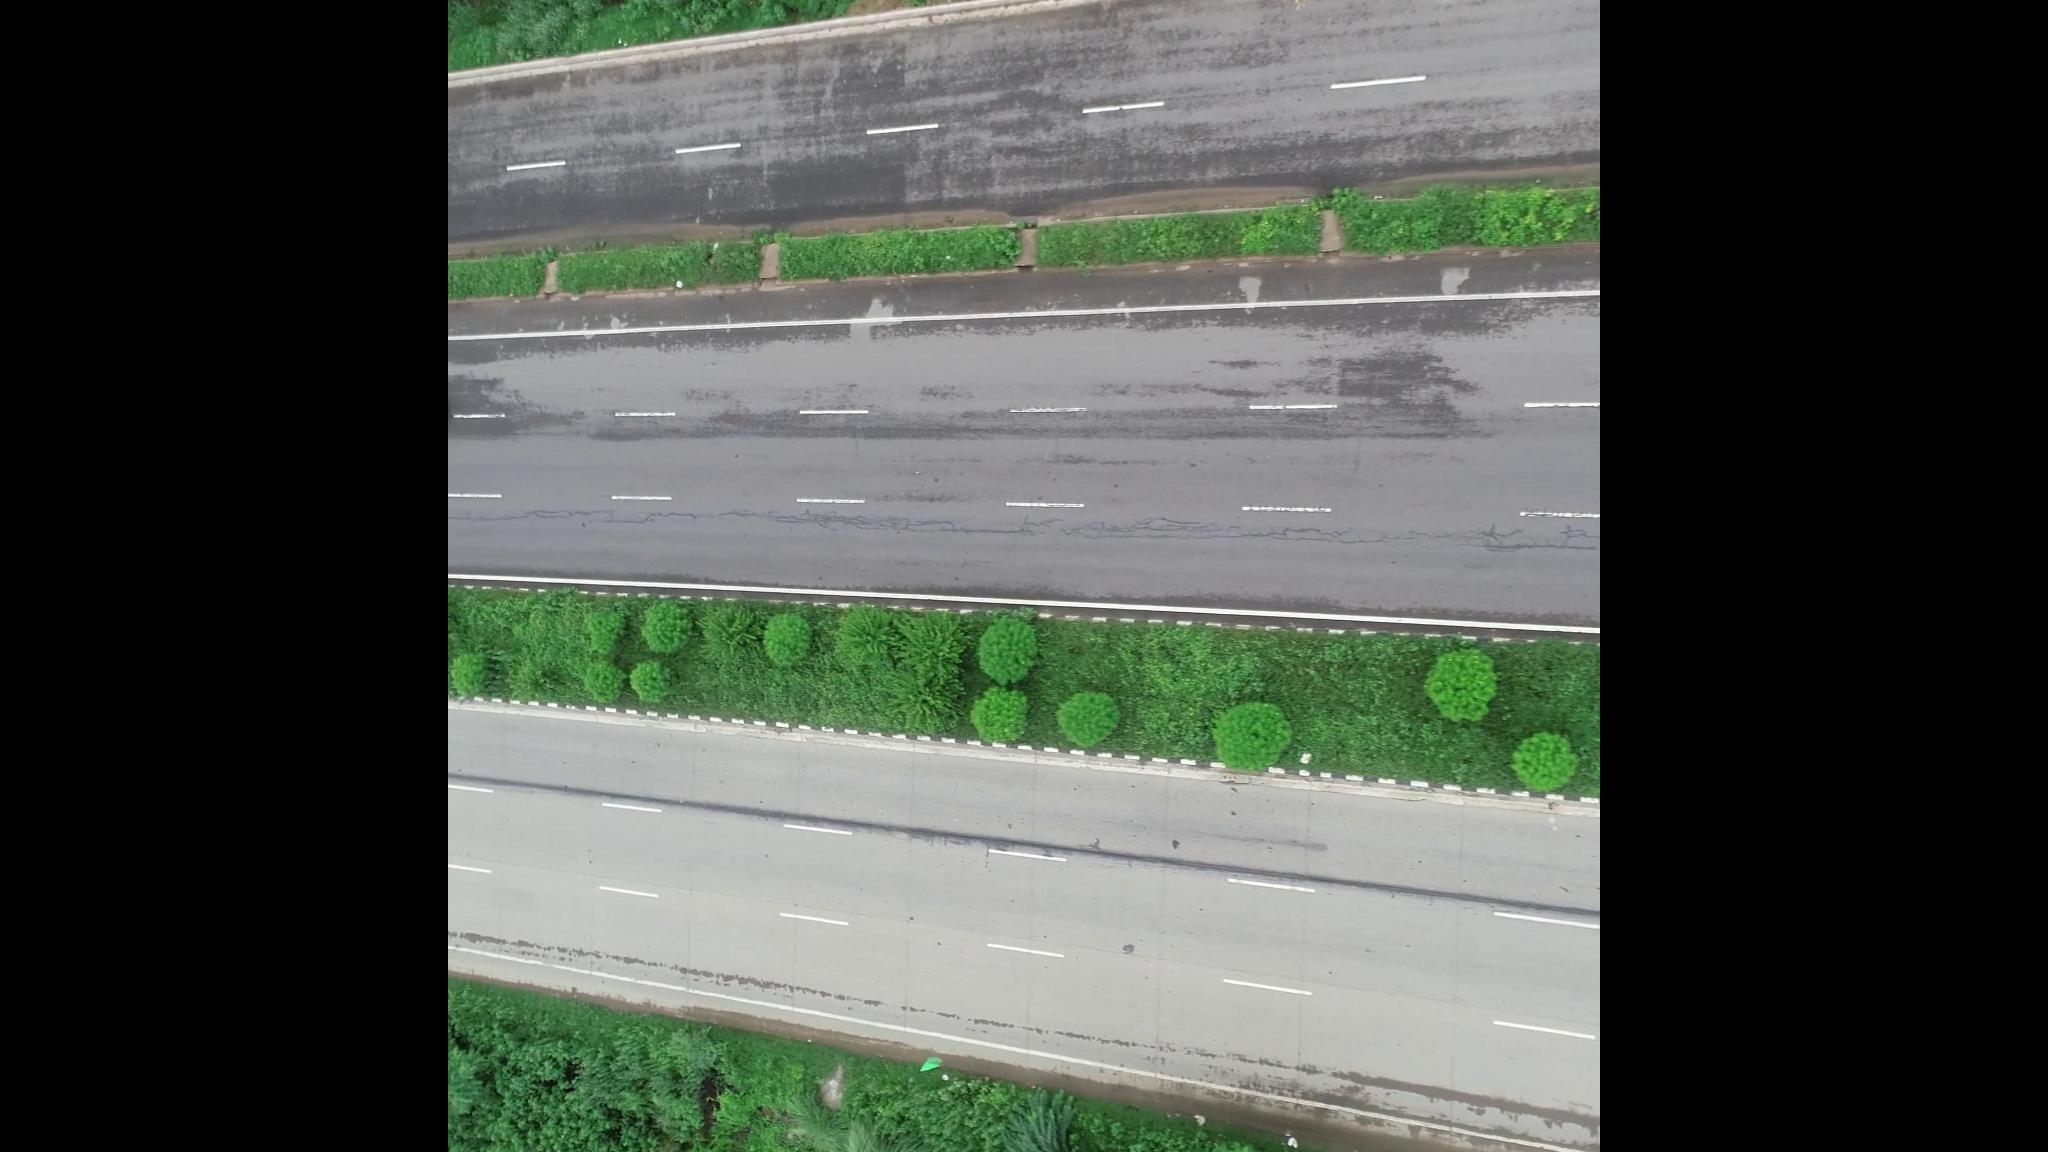Cracks: (971, 506, 1599, 570), (464, 497, 941, 564)
